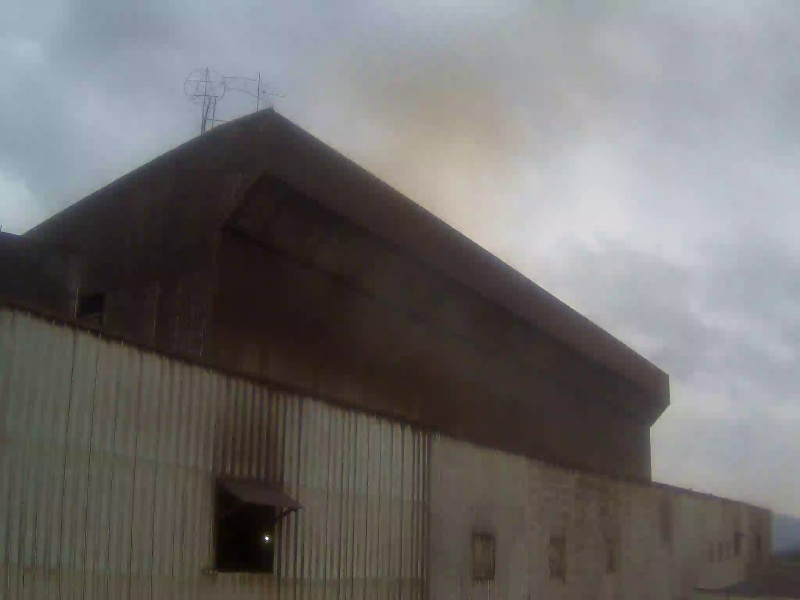Ruim: (372, 43, 494, 252)
